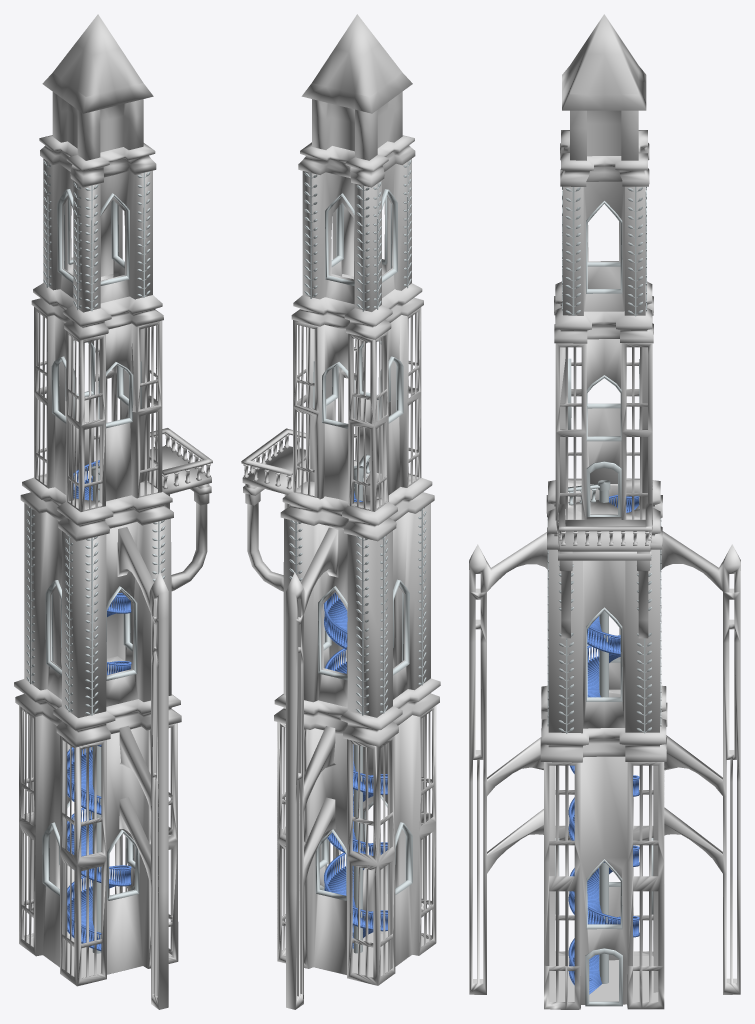
File: Tower1.fbx
3 renders of one model, left to right at view 1: azimuth 30°, elevation 25°; view 2: azimuth 150°, elevation 25°; view 3: azimuth 270°, elevation 25°, orthographic. The views are drawn at different scales.
Parts seen in each view (by area): view 1: Tower, TowerArchLeft, SpiralStairs, SpiralStairsPole, TowerArchRight; view 2: Tower, TowerArchRight, SpiralStairs, SpiralStairsPole, TowerArchLeft; view 3: Tower, TowerArchRight, TowerArchLeft, SpiralStairs, SpiralStairsPole.
Boxes of the visible parts, x1=… form: Tower: x1=14, y1=14, x2=212, y2=986; TowerArchLeft: x1=117, y1=527, x2=168, y2=1009; SpiralStairs: x1=67, y1=460, x2=131, y2=951; SpiralStairsPole: x1=91, y1=466, x2=101, y2=953; TowerArchRight: x1=28, y1=715, x2=33, y2=917; Tower: x1=241, y1=14, x2=440, y2=985; TowerArchRight: x1=286, y1=527, x2=338, y2=1009; SpiralStairs: x1=324, y1=491, x2=387, y2=948; SpiralStairsPole: x1=353, y1=465, x2=363, y2=953; TowerArchLeft: x1=421, y1=717, x2=423, y2=917; Tower: x1=540, y1=14, x2=667, y2=1009; TowerArchRight: x1=660, y1=531, x2=740, y2=994; TowerArchLeft: x1=469, y1=532, x2=547, y2=994; SpiralStairs: x1=568, y1=495, x2=639, y2=994; SpiralStairsPole: x1=598, y1=480, x2=610, y2=983.
Size of the model in its own units: 3939 by 24280 by 6114.
